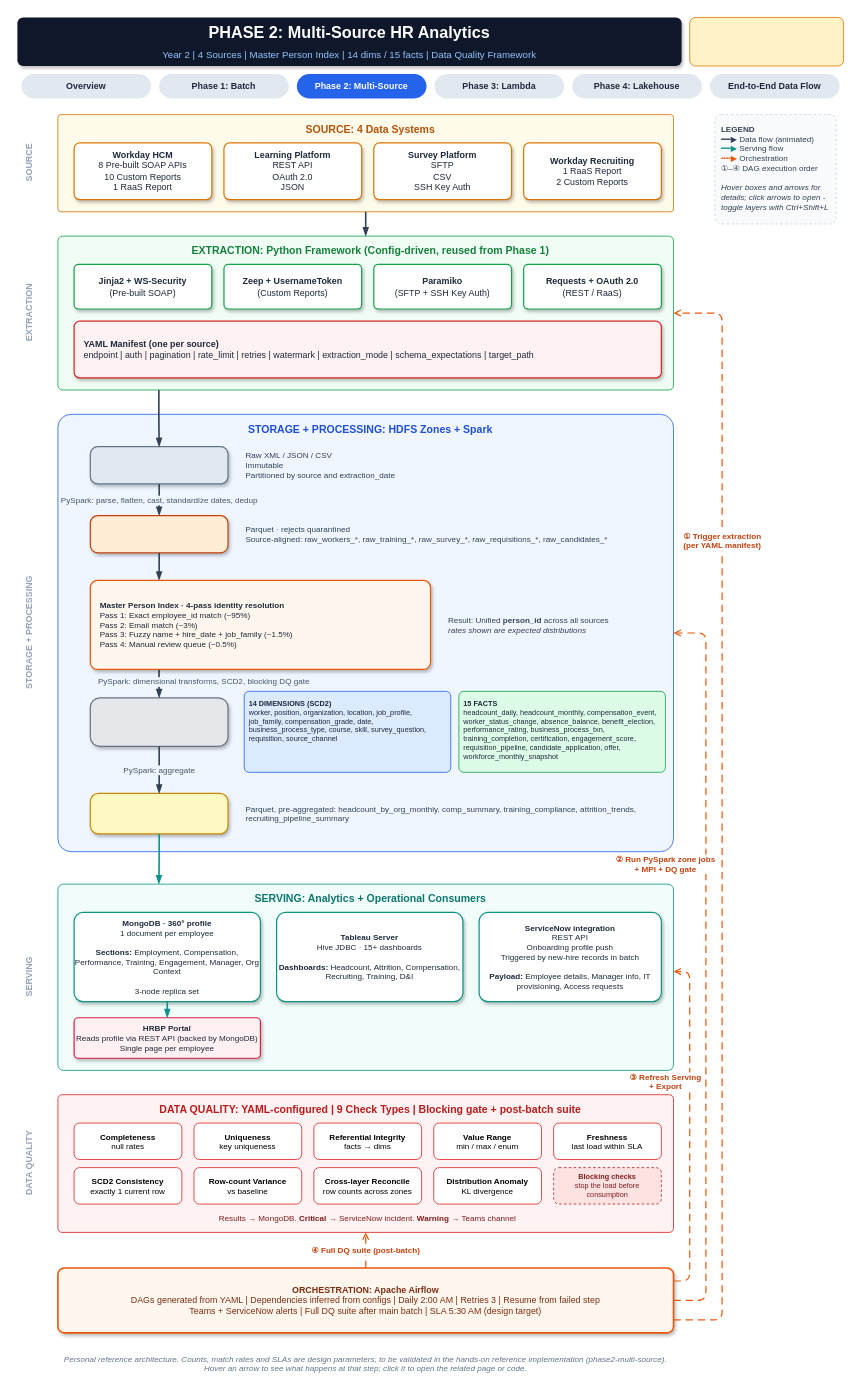
This 858x1395 diagram has some shape labels left out. Each missing label, with the centre of its shape:
"CONSUMPTION" goes at [159,814].
"CURATED Kimball · SCD2 · Hive external" goes at [159,723].
"LANDING" goes at [159,466].
"RAW" goes at [159,535].
"REFERENCE ARCHITECTURE ↗" goes at [766,41].
